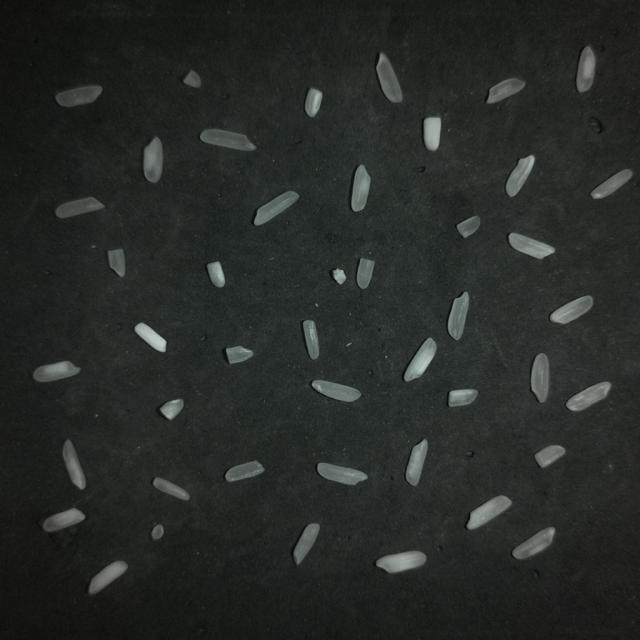broken: (225, 460, 264, 480), (535, 444, 565, 467), (357, 257, 374, 288), (457, 215, 480, 237), (160, 398, 184, 419), (226, 346, 253, 364), (183, 69, 201, 87), (151, 523, 164, 539)
chalky: (467, 495, 511, 528), (404, 337, 436, 380), (88, 560, 128, 593), (590, 168, 633, 198), (377, 52, 402, 102), (509, 232, 554, 258), (550, 295, 593, 322), (63, 438, 86, 488), (376, 550, 426, 572), (406, 439, 428, 485), (43, 507, 85, 531), (33, 360, 80, 380), (135, 322, 166, 351), (144, 136, 163, 182), (423, 117, 441, 151), (206, 260, 226, 288), (448, 388, 478, 405)
foreign: (332, 268, 346, 284)
whole: (254, 190, 299, 224), (512, 526, 555, 558), (566, 381, 611, 410), (200, 128, 256, 150), (505, 155, 534, 195), (317, 462, 368, 484), (55, 196, 104, 217), (294, 522, 319, 563), (448, 291, 469, 339), (55, 85, 102, 106), (312, 380, 361, 400), (487, 77, 525, 102), (576, 45, 596, 91), (351, 164, 371, 210), (531, 353, 549, 401), (153, 476, 189, 499), (303, 320, 319, 359), (305, 87, 323, 117), (108, 248, 125, 276)
